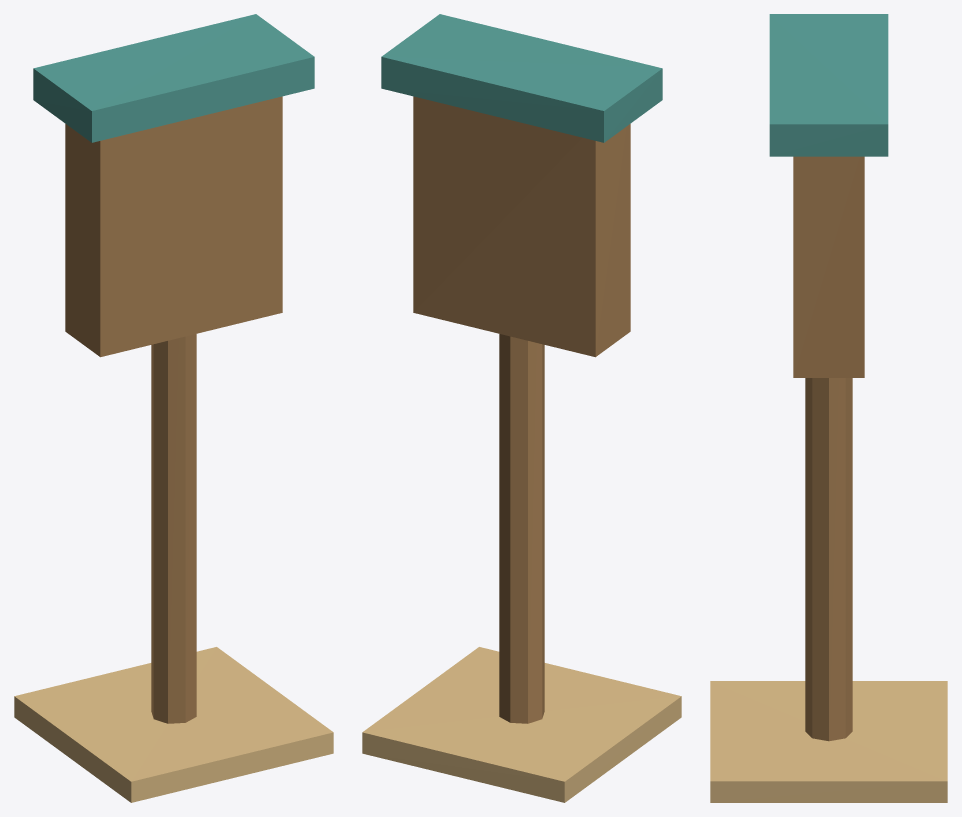
Rendered from bat-house.source.glb.
3 renders of one model, left to right at view 1: azimuth 30°, elevation 25°; view 2: azimuth 150°, elevation 25°; view 3: azimuth 270°, elevation 25°, orthographic.
Visible parts, largest first — view 1: bat-house-house-mesh, bat-house-base-mesh, bat-house-roof-mesh, bat-house-post-mesh; view 2: bat-house-house-mesh, bat-house-base-mesh, bat-house-roof-mesh, bat-house-post-mesh; view 3: bat-house-base-mesh, bat-house-post-mesh, bat-house-roof-mesh, bat-house-house-mesh.
Part boxes in pixels (left/top/right/bottom): bat-house-house-mesh: left=65, top=96, right=282, bottom=357; bat-house-base-mesh: left=14, top=647, right=333, bottom=802; bat-house-roof-mesh: left=33, top=14, right=314, bottom=142; bat-house-post-mesh: left=151, top=334, right=196, bottom=723; bat-house-house-mesh: left=413, top=96, right=630, bottom=357; bat-house-base-mesh: left=362, top=647, right=681, bottom=802; bat-house-roof-mesh: left=381, top=14, right=662, bottom=142; bat-house-post-mesh: left=499, top=334, right=544, bottom=723; bat-house-base-mesh: left=710, top=681, right=947, bottom=802; bat-house-post-mesh: left=805, top=378, right=852, bottom=741; bat-house-roof-mesh: left=769, top=14, right=888, bottom=156; bat-house-house-mesh: left=793, top=156, right=864, bottom=377.
Bounding box in the file's own units: 1.1 × 3.18 × 1.
